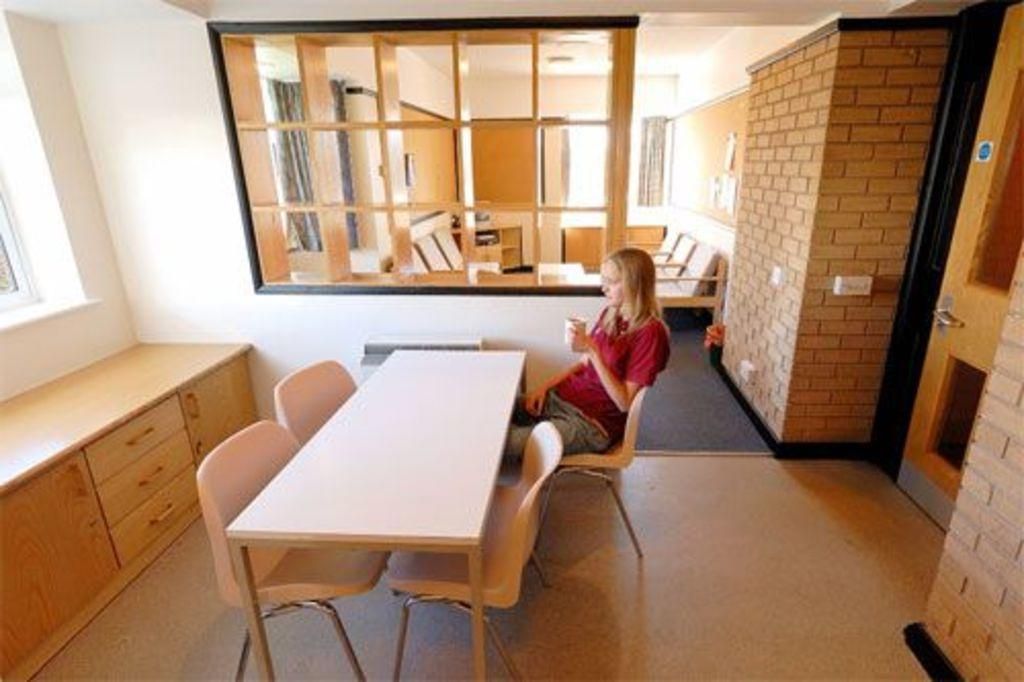door: (898, 83, 1022, 483)
handle: (932, 300, 962, 331)
